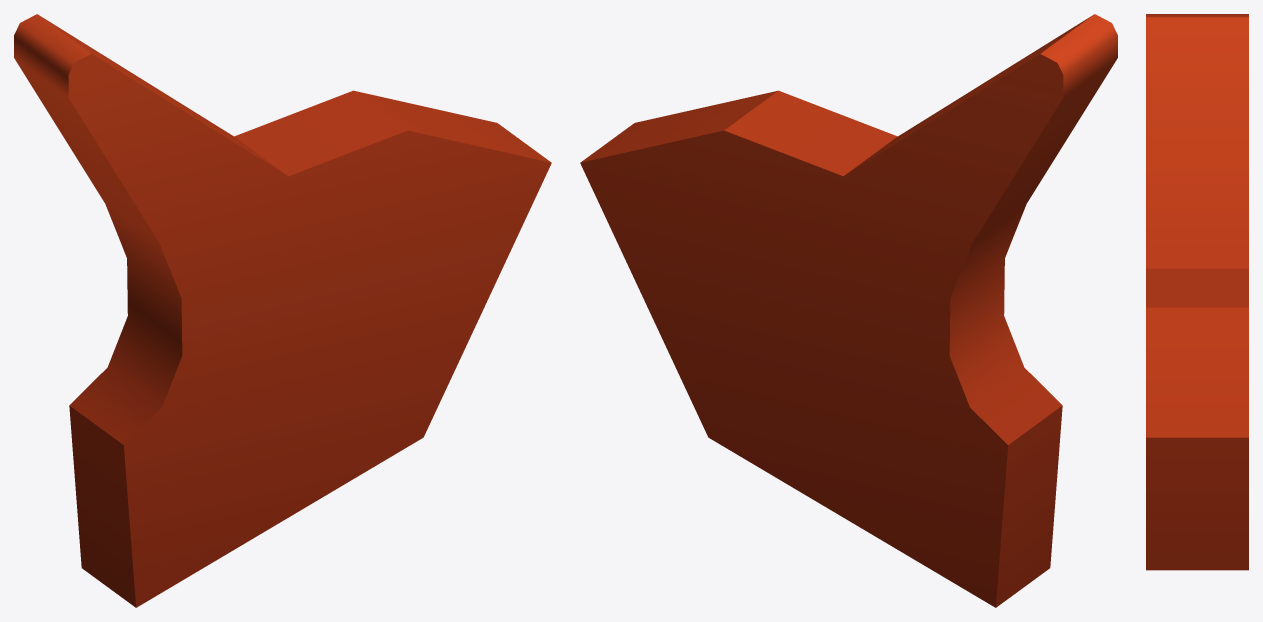
The model's file is Flare_Gun_Trigger_02.fbx.
The picture shows the model from 3 angles, left to right: view 1: azimuth 30°, elevation 25°; view 2: azimuth 150°, elevation 25°; view 3: azimuth 270°, elevation 25°; orthographic projection. The views are drawn at different scales.
Parts seen in each view (by area): view 1: Flare_Gun_Trigger_02; view 2: Flare_Gun_Trigger_02; view 3: Flare_Gun_Trigger_02.
Part boxes in pixels (left/top/right/bottom): Flare_Gun_Trigger_02: left=14, top=14, right=551, bottom=607; Flare_Gun_Trigger_02: left=580, top=14, right=1117, bottom=607; Flare_Gun_Trigger_02: left=1146, top=14, right=1248, bottom=570.
Size of the model in its own units: 5.25 by 5.87 by 1.03.
